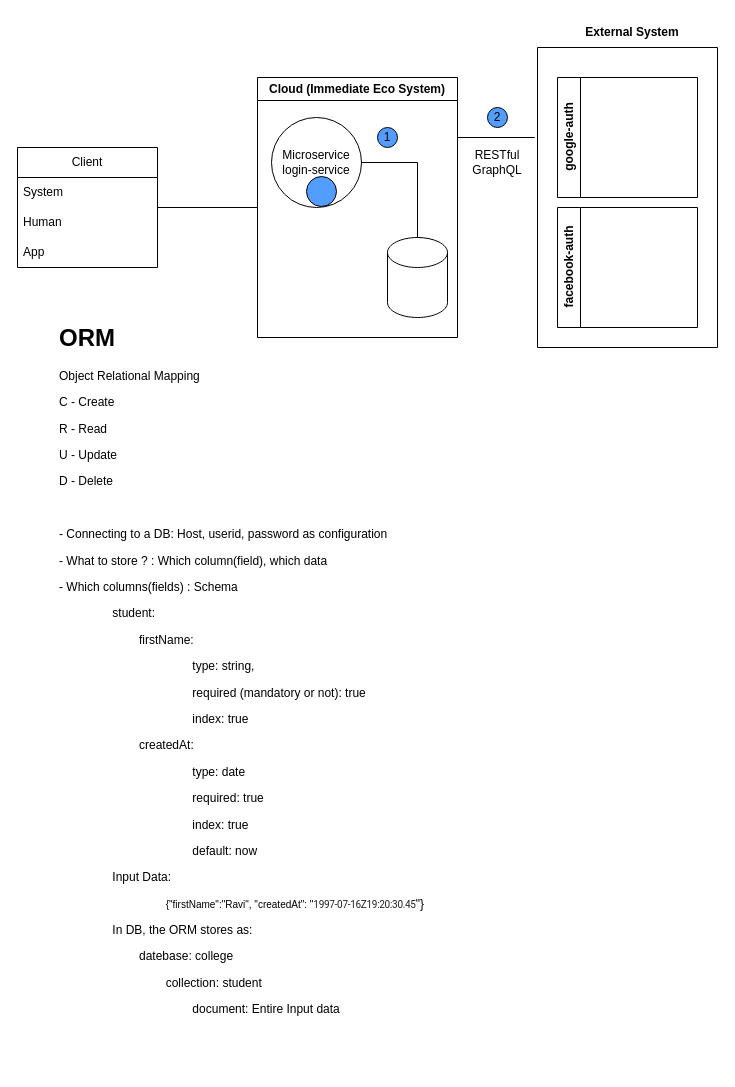
Image size: 735x1087. Some labels were removed from this diagram. The shapes that lost their labels are listed below. From the top down, each one's centre as x and y in pixels, then its label:
pixel 321 191: ORM
pixel 417 277: MongoDB
